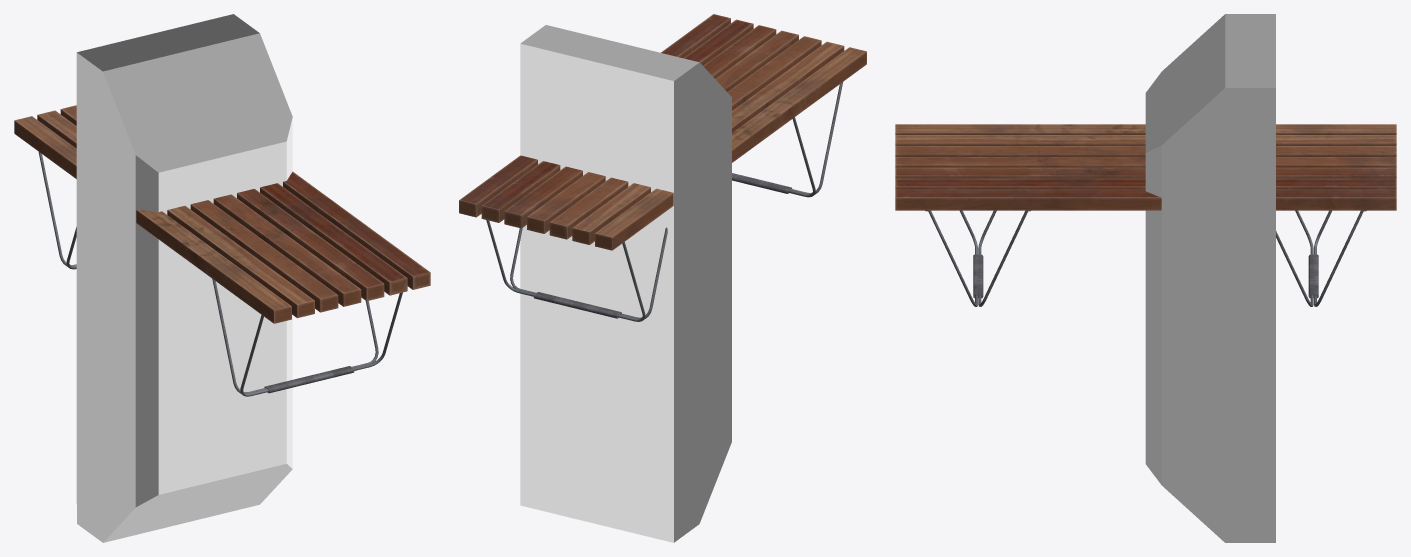
File: SM_Bench_06.fbx
3 views of the same model, side by side, from view 1: azimuth 30°, elevation 25°; view 2: azimuth 150°, elevation 25°; view 3: azimuth 270°, elevation 25° (orthographic). The views are drawn at different scales.
Parts seen in each view (by area): view 1: SM_Bench_06_ConvexHulls, SM_Bench_06_LOD0; view 2: SM_Bench_06_ConvexHulls, SM_Bench_06_LOD0; view 3: SM_Bench_06_ConvexHulls, SM_Bench_06_LOD0.
Part boxes in pixels (x1,y1,x2,y2): SM_Bench_06_ConvexHulls: (76, 14, 292, 542); SM_Bench_06_LOD0: (14, 105, 430, 396); SM_Bench_06_ConvexHulls: (520, 25, 731, 542); SM_Bench_06_LOD0: (459, 14, 866, 321); SM_Bench_06_ConvexHulls: (1145, 14, 1275, 542); SM_Bench_06_LOD0: (895, 124, 1396, 306).
Bounding box in the file's own units: 69.9 × 200 × 201.
